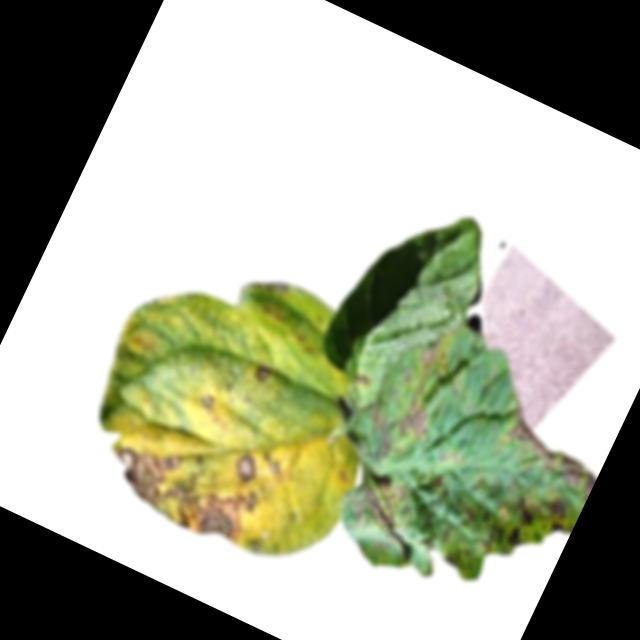Early_blight: (93, 426, 264, 554), (495, 407, 609, 497), (336, 466, 434, 561), (467, 485, 542, 568), (534, 489, 583, 540), (392, 396, 438, 444), (414, 334, 446, 375), (230, 453, 260, 486), (257, 451, 288, 478), (439, 545, 466, 573), (454, 503, 478, 530), (351, 371, 374, 396), (428, 471, 451, 495), (251, 363, 273, 386), (198, 392, 217, 412)
